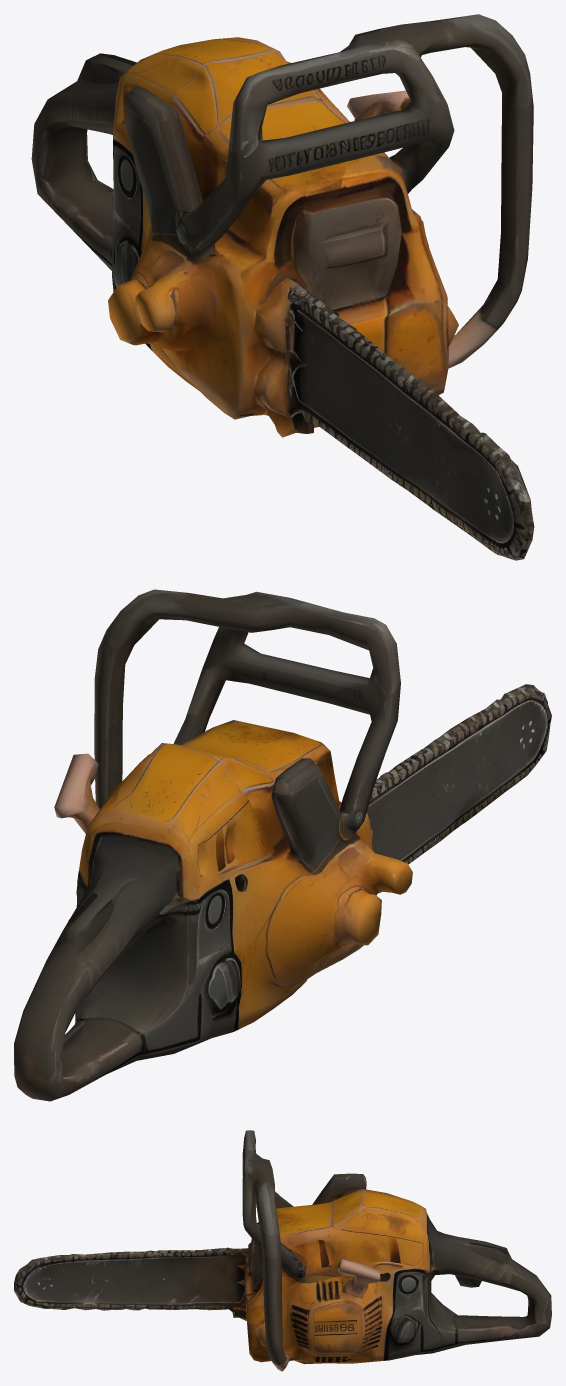
The model's file is chainsaw.glb.
3 renders of one model, top to bottom at view 1: azimuth 30°, elevation 25°; view 2: azimuth 150°, elevation 25°; view 3: azimuth 270°, elevation 25°, orthographic. The views are drawn at different scales.
Parts seen in each view (by area): view 1: Chainsaw; view 2: Chainsaw; view 3: Chainsaw.
Boxes of the visible parts, x1,y1,x2,y2 form: Chainsaw: [31, 14, 534, 560]; Chainsaw: [14, 589, 551, 1101]; Chainsaw: [14, 1130, 551, 1371].
Bounding box in the file's own units: 0.3193 × 0.3172 × 0.8.
1 material, 1 textured.
